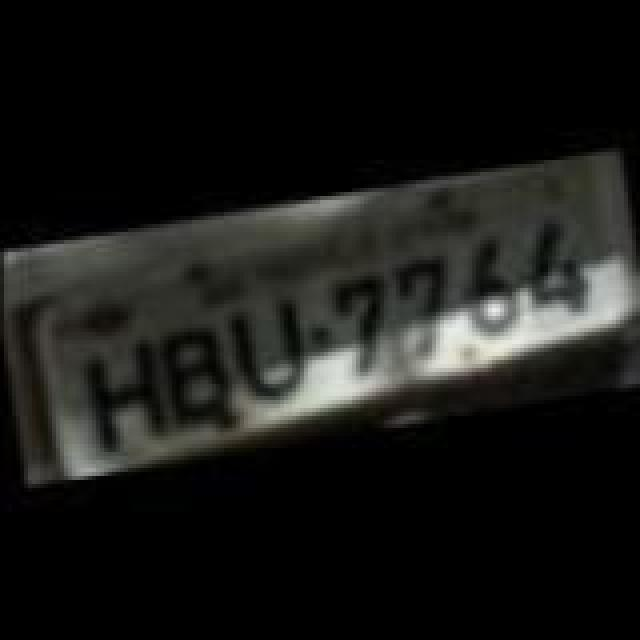4: (514, 206, 594, 322)
6: (450, 226, 530, 342)
7: (386, 248, 458, 360), (326, 266, 398, 378)
B: (152, 316, 236, 428)
H: (72, 336, 168, 456)
U: (230, 286, 318, 398)
